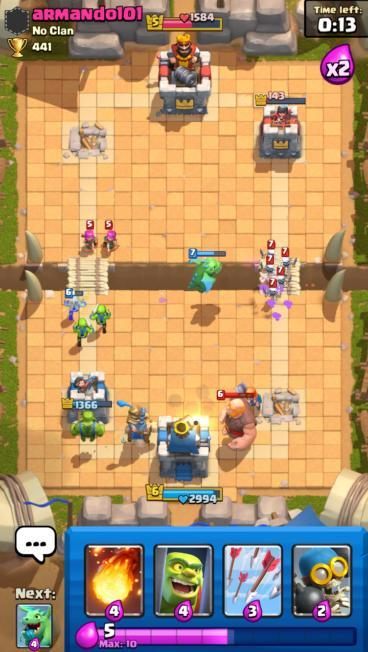ally_baby_dragon: (185, 245, 228, 296)
ally_brawler: (69, 404, 107, 447)
ally_goblin: (59, 286, 88, 324), (86, 300, 114, 330), (71, 318, 95, 347)
ally_prince: (114, 396, 162, 450)
ally_valkyrie: (243, 389, 265, 413)
enemy_archer: (80, 218, 100, 252), (100, 218, 119, 252)
enemy_giant: (213, 388, 262, 451)
enemy_skeleton: (263, 276, 280, 302), (278, 246, 294, 273), (263, 238, 278, 264), (261, 254, 277, 278), (274, 265, 289, 289)
